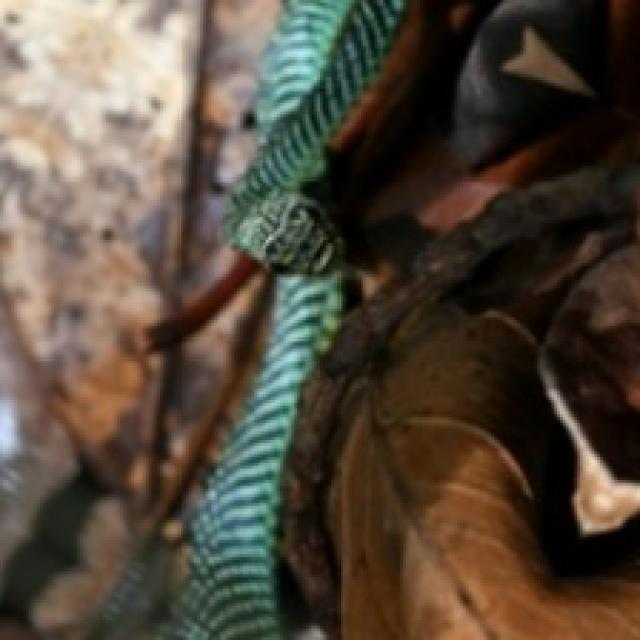paradise tree snake: (263, 0, 637, 637), (0, 0, 271, 637)
